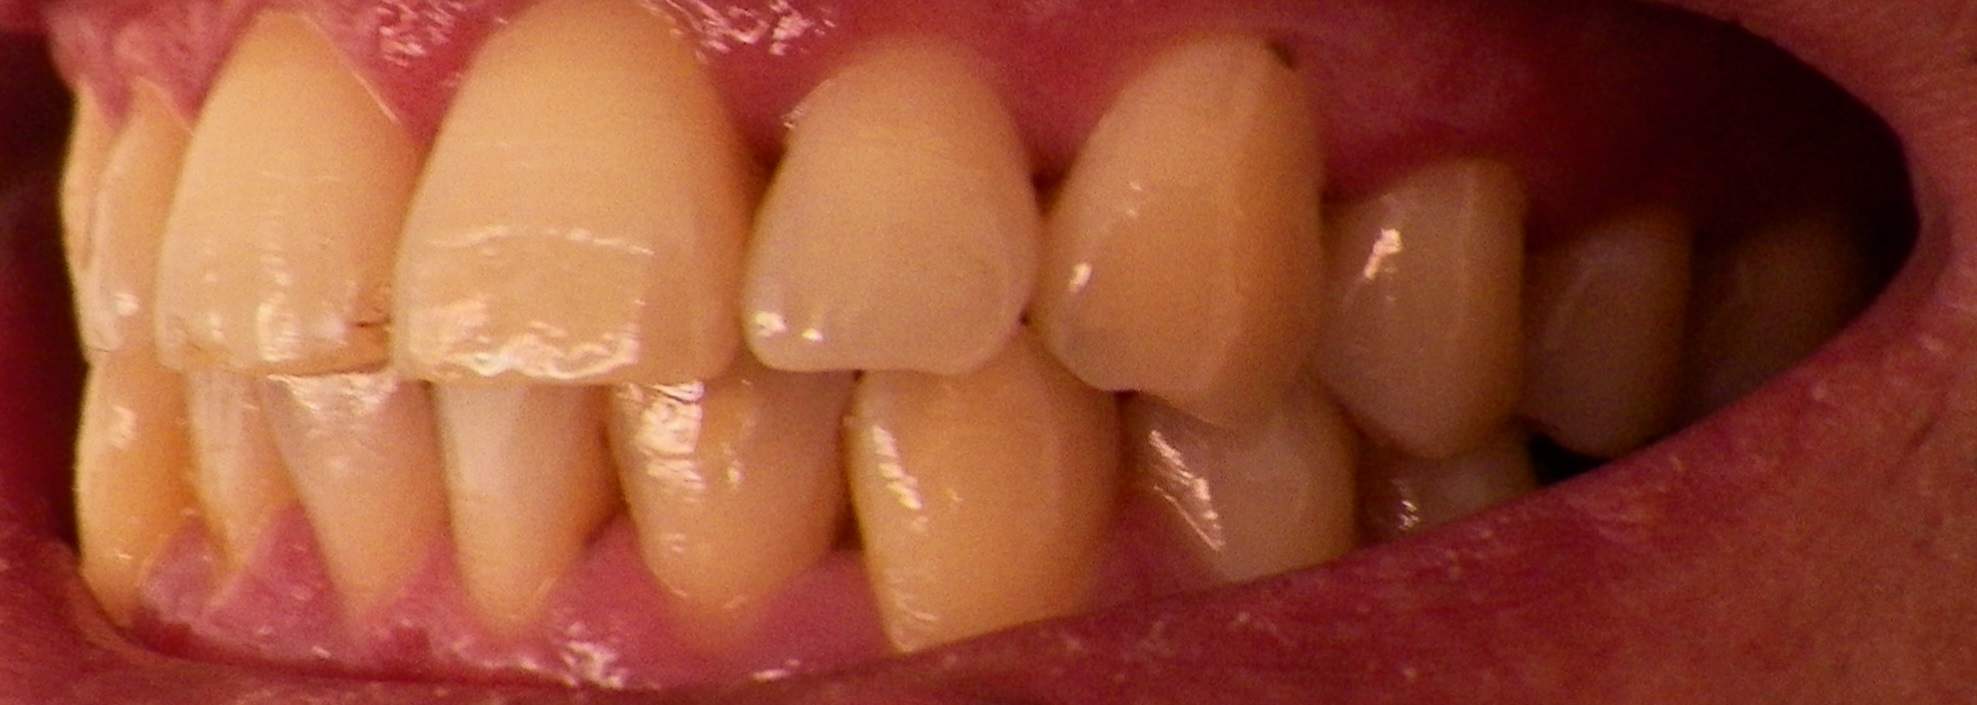boca: (57, 8, 1770, 644)
